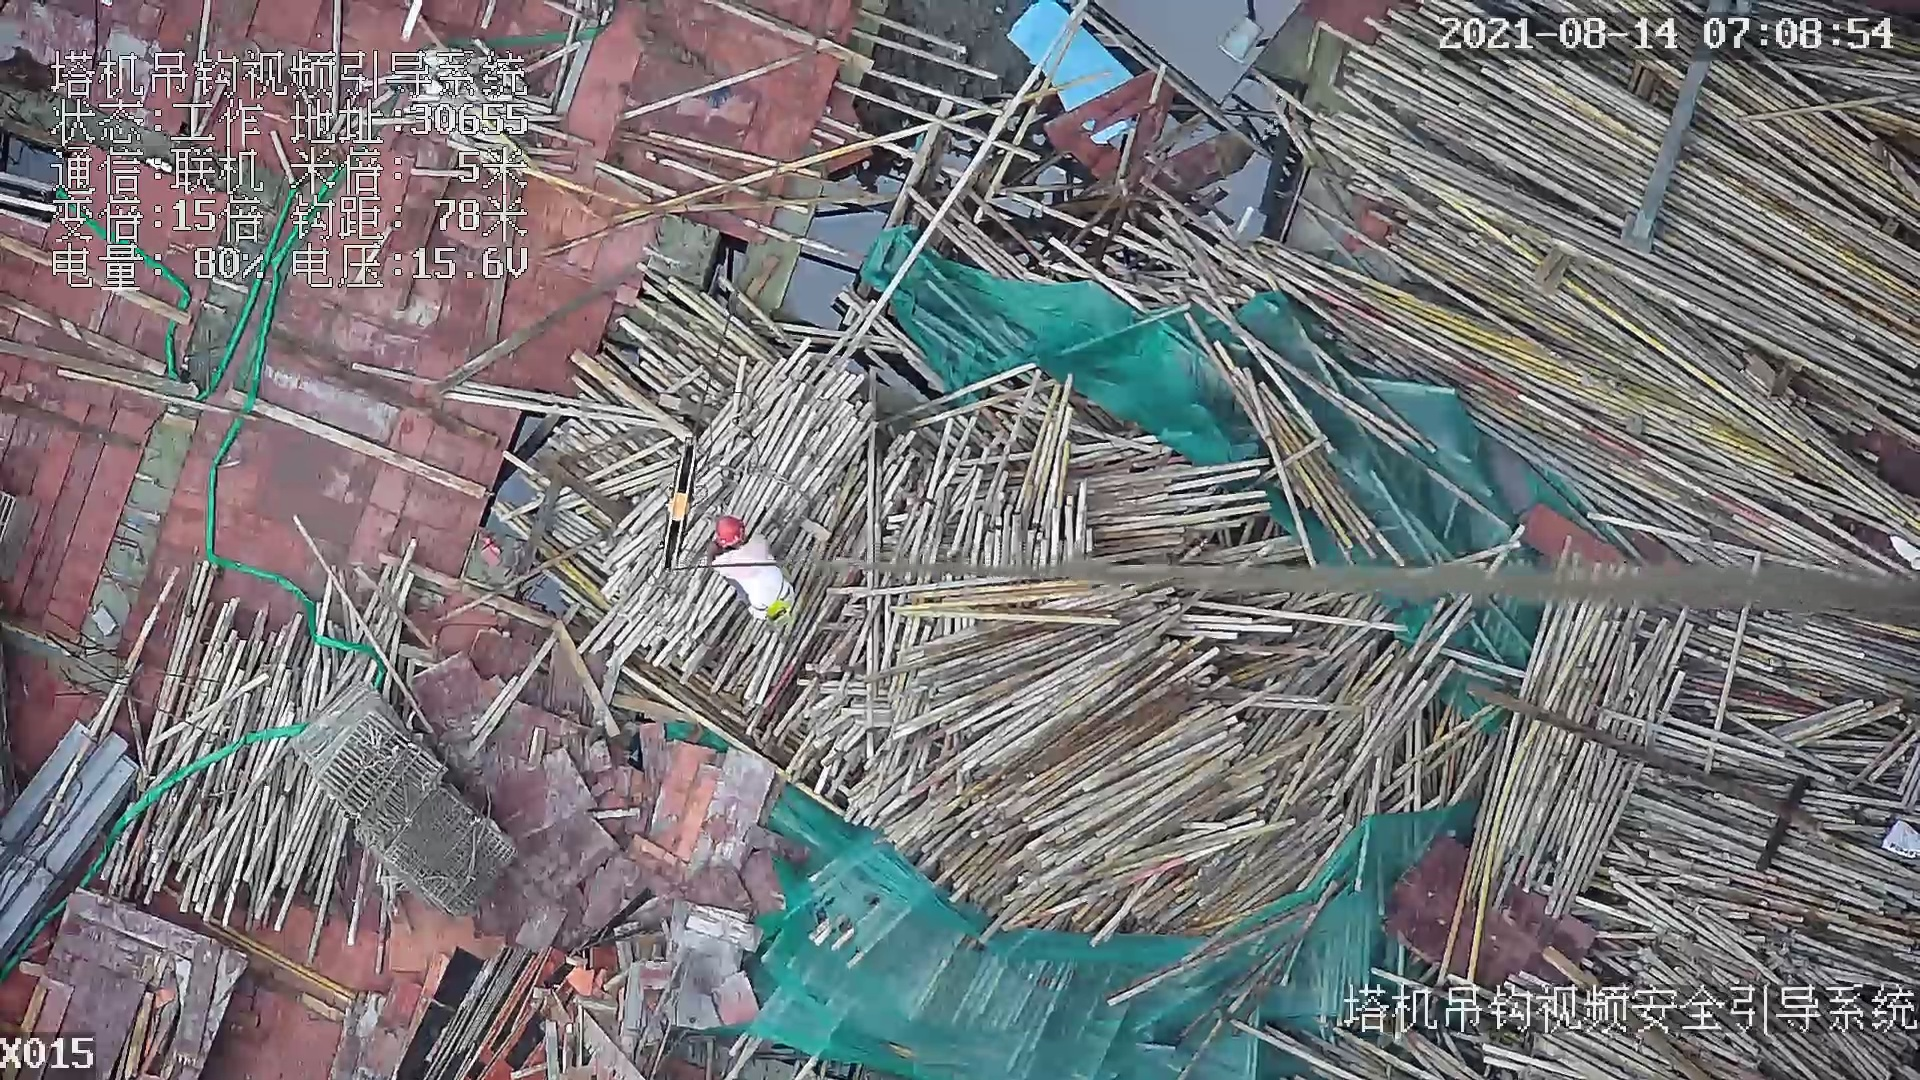helmet: (712, 514, 746, 550)
hook: (653, 430, 701, 576)
person: (710, 504, 804, 626)
